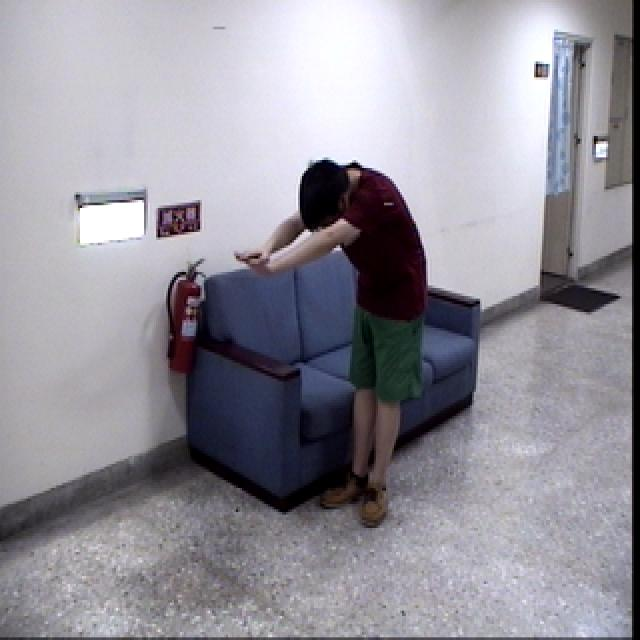bend: (231, 150, 431, 538)
